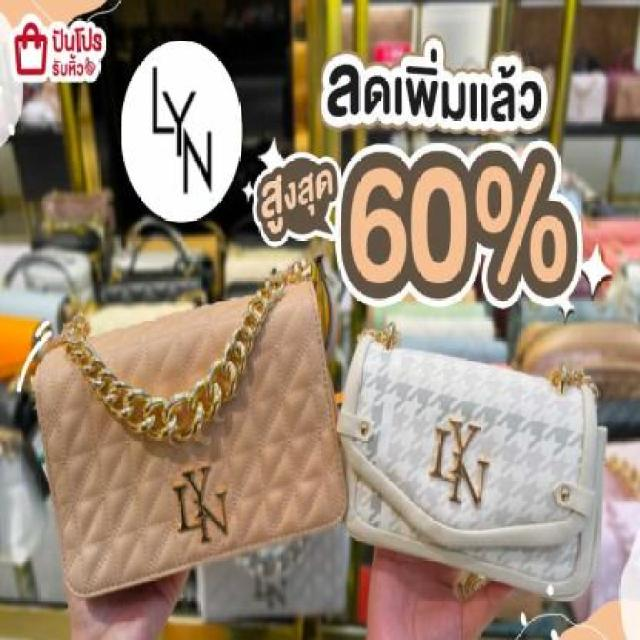Bag: (19, 244, 359, 605), (324, 302, 611, 601)
